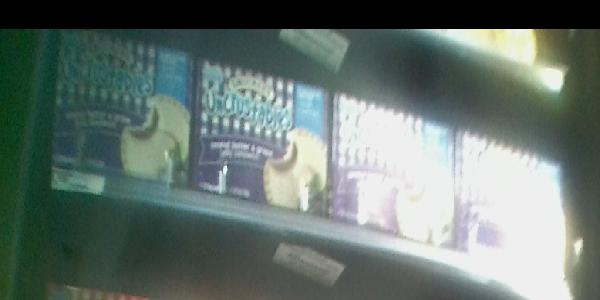icecream: (55, 29, 189, 187), (198, 59, 327, 223), (334, 93, 453, 249), (455, 127, 566, 281)
